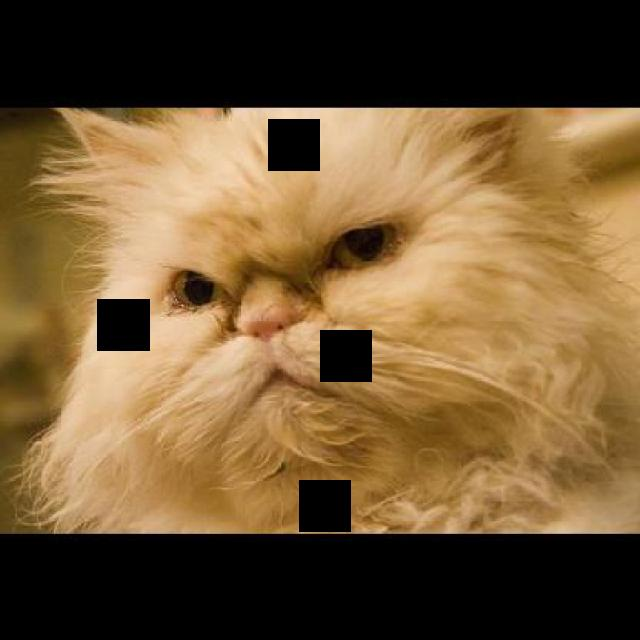unauthorized: (1, 104, 638, 534)
